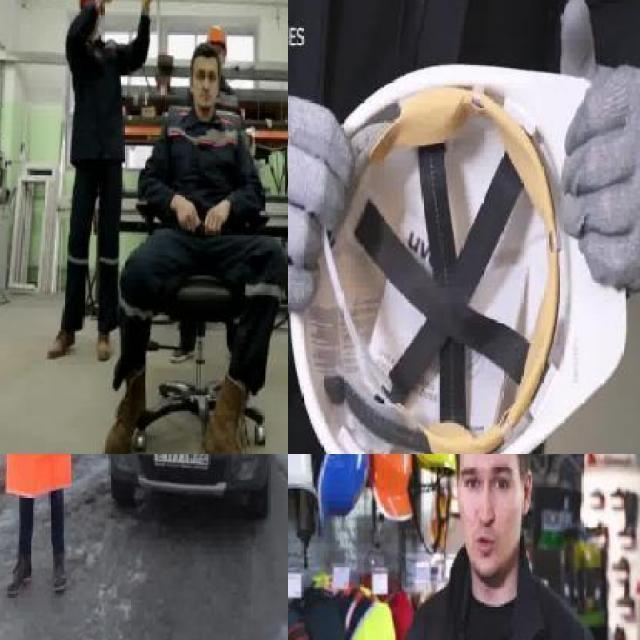apron: (556, 0, 640, 299), (288, 86, 354, 315)
